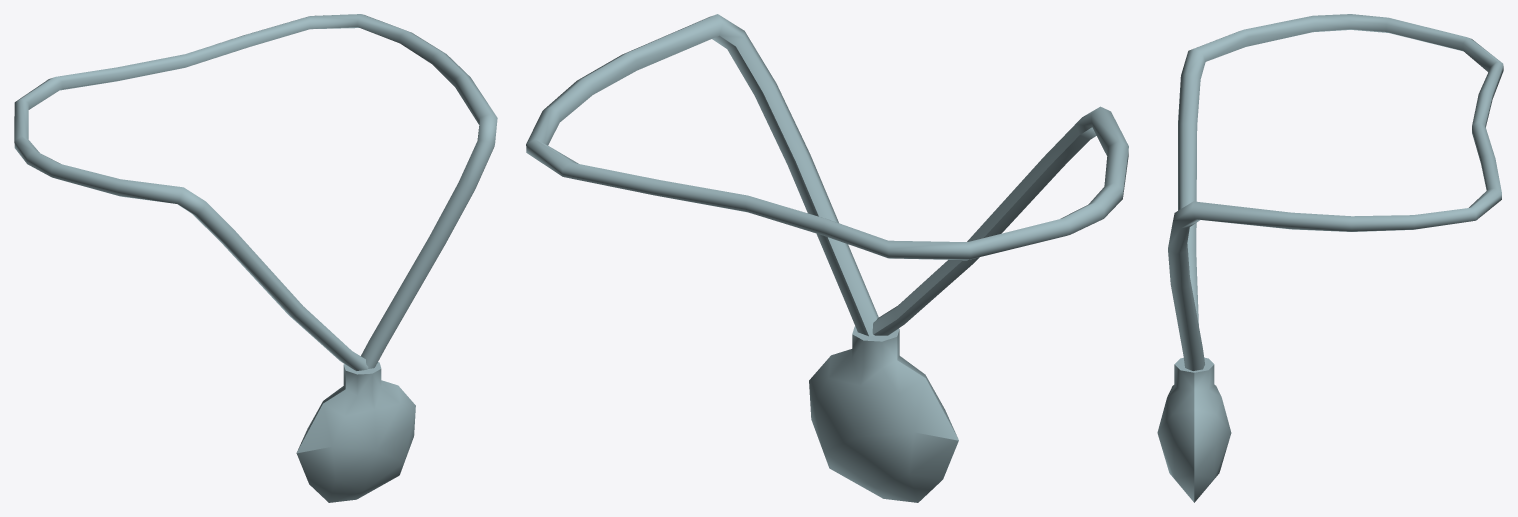
Rendered from Medal.fbx.
3 views of the same model, side by side, from view 1: azimuth 30°, elevation 25°; view 2: azimuth 150°, elevation 25°; view 3: azimuth 270°, elevation 25° (orthographic). The views are drawn at different scales.
Visible parts, largest first — view 1: medal_0; view 2: medal_0; view 3: medal_0.
Part boxes in pixels (left/top/right/bottom): medal_0: left=14, top=14, right=497, bottom=502; medal_0: left=526, top=14, right=1128, bottom=502; medal_0: left=1157, top=14, right=1503, bottom=502.
Size of the model in its own units: 27.46 by 22.16 by 19.25.
